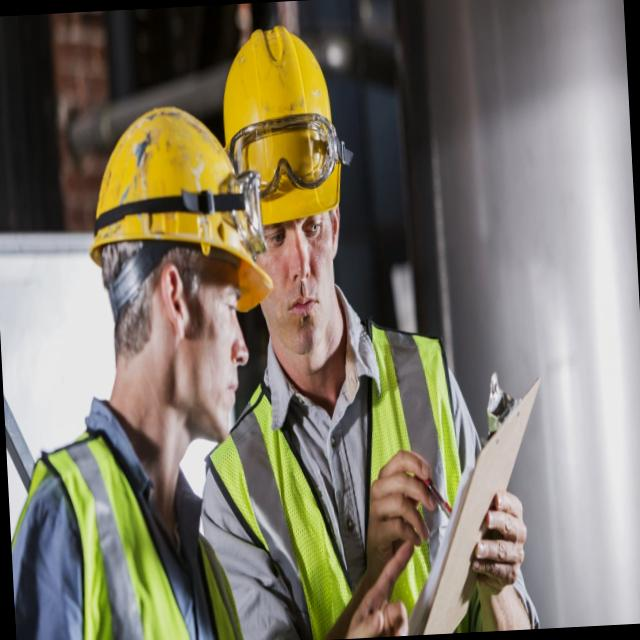helmet: (87, 97, 267, 286), (218, 24, 346, 214)
no-goggles: (168, 258, 252, 334), (255, 211, 338, 258)
vest: (204, 323, 468, 640), (30, 422, 240, 640)
